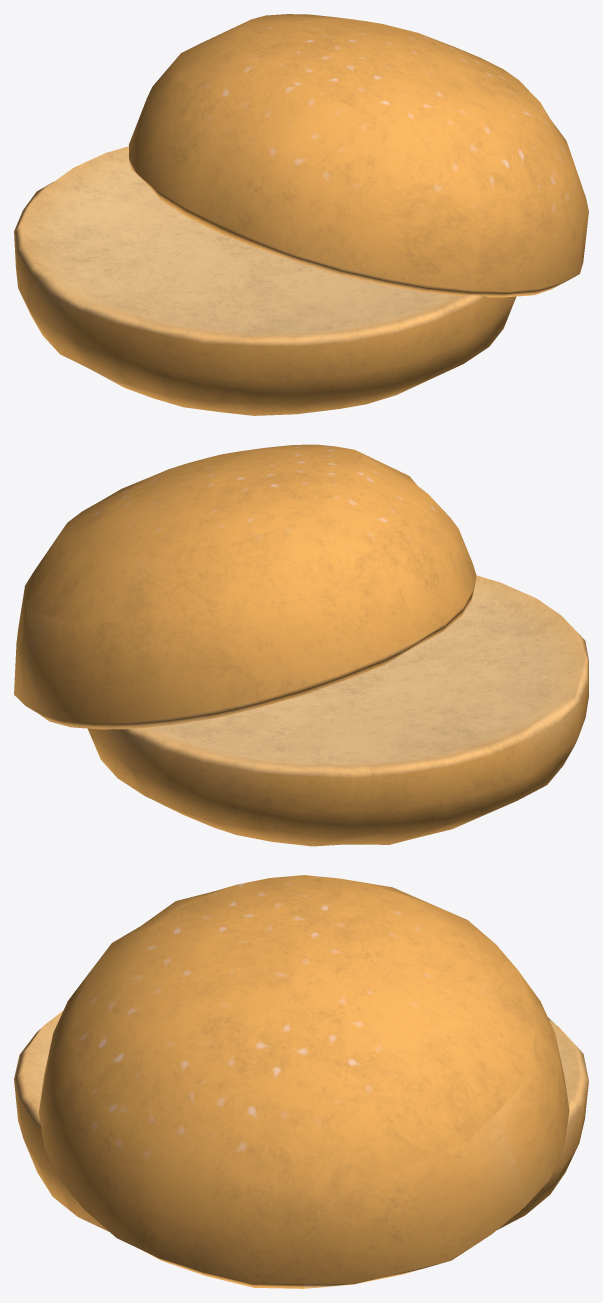
The model's file is Bread_Visual.glb.
The picture shows the model from 3 angles, top to bottom: view 1: azimuth 30°, elevation 25°; view 2: azimuth 150°, elevation 25°; view 3: azimuth 270°, elevation 25°; orthographic projection. The views are drawn at different scales.
Visible parts, largest first — view 1: Bread_bottom; view 2: Bread_bottom; view 3: Bread_bottom.
Boxes of the visible parts, x1=… form: Bread_bottom: x1=14, y1=14, x2=588, y2=415; Bread_bottom: x1=14, y1=444, x2=588, y2=846; Bread_bottom: x1=14, y1=875, x2=588, y2=1288.
Bounding box in the file's own units: 0.9711 × 0.5258 × 0.8497.
1 material, 1 textured.
